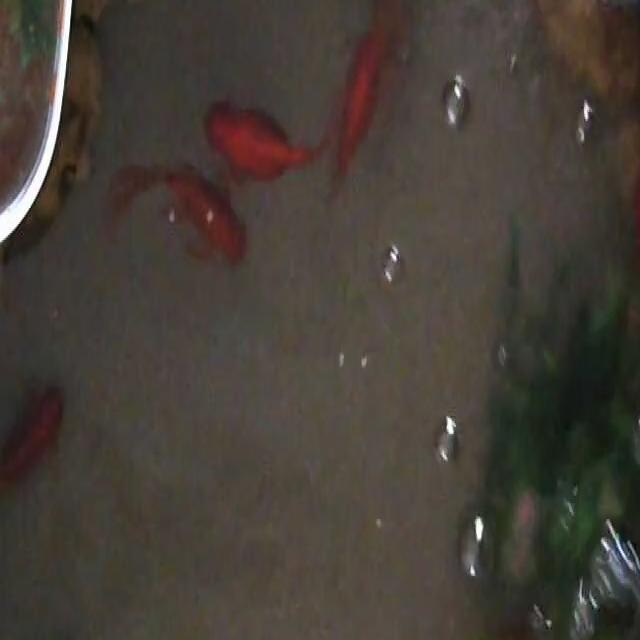fish: (328, 0, 411, 201), (105, 162, 251, 270), (201, 98, 329, 185), (0, 380, 65, 496)
